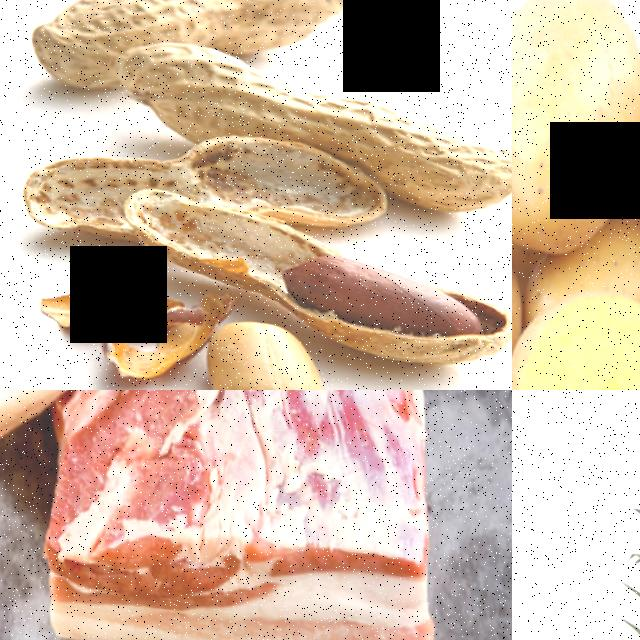peanuts: (114, 31, 348, 135), (279, 230, 486, 328), (63, 0, 370, 57), (367, 84, 512, 200), (205, 307, 329, 390)
pork belly: (43, 390, 446, 640), (0, 390, 283, 484)
potato: (512, 0, 640, 235), (512, 264, 640, 390)
